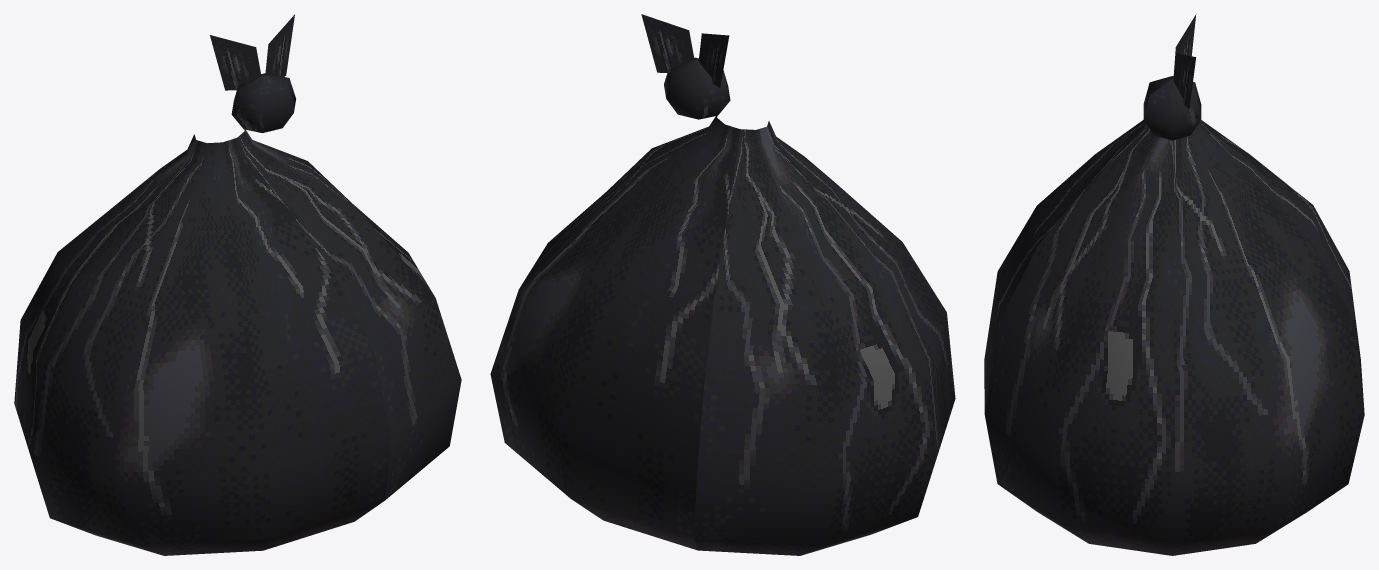
File: trash_bag.glb
The picture shows the model from 3 angles, left to right: view 1: azimuth 30°, elevation 25°; view 2: azimuth 150°, elevation 25°; view 3: azimuth 270°, elevation 25°; orthographic projection. The views are drawn at different scales.
Visible parts, largest first — view 1: trash_bag; view 2: trash_bag; view 3: trash_bag.
Boxes of the visible parts, bbox=[...] form: trash_bag: bbox=[14, 14, 461, 555]; trash_bag: bbox=[490, 14, 955, 555]; trash_bag: bbox=[984, 14, 1364, 555].
Size of the model in its own units: 0.6134 by 0.6554 by 0.4724.
1 material, 1 textured.
